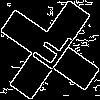F: (25, 25, 76, 80)
